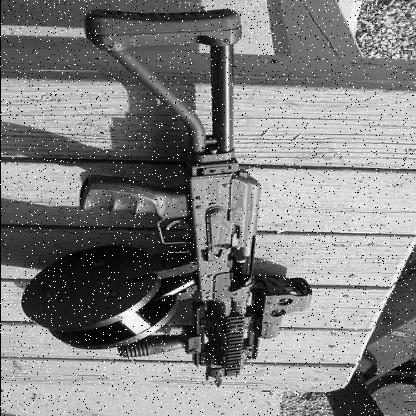rifle: (75, 10, 327, 382)
